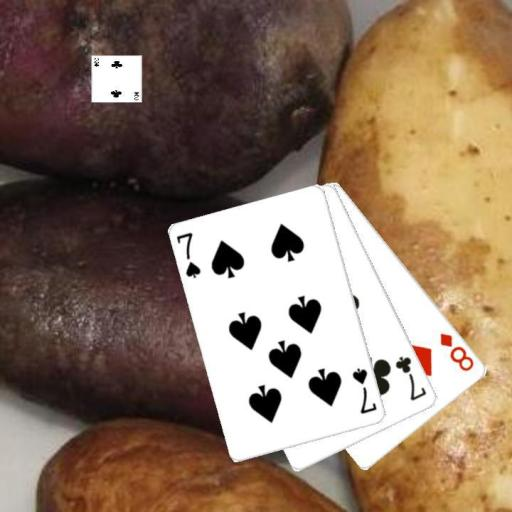7C: (393, 353, 428, 403)
7S: (349, 365, 379, 416), (174, 229, 203, 280)
8D: (437, 329, 477, 373)
